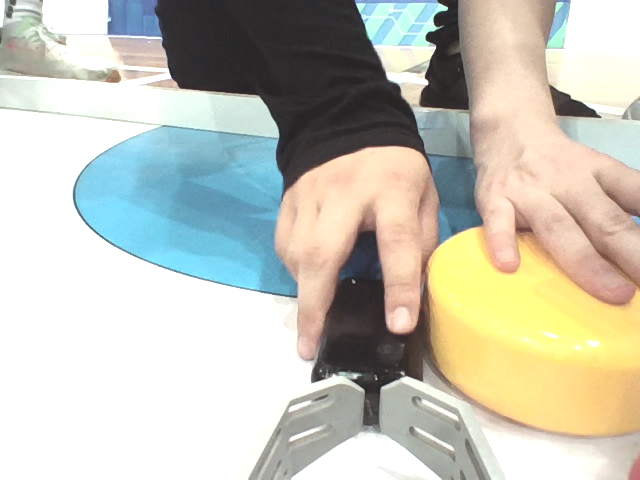black: (300, 261, 412, 435)
yellow: (428, 189, 640, 453)
